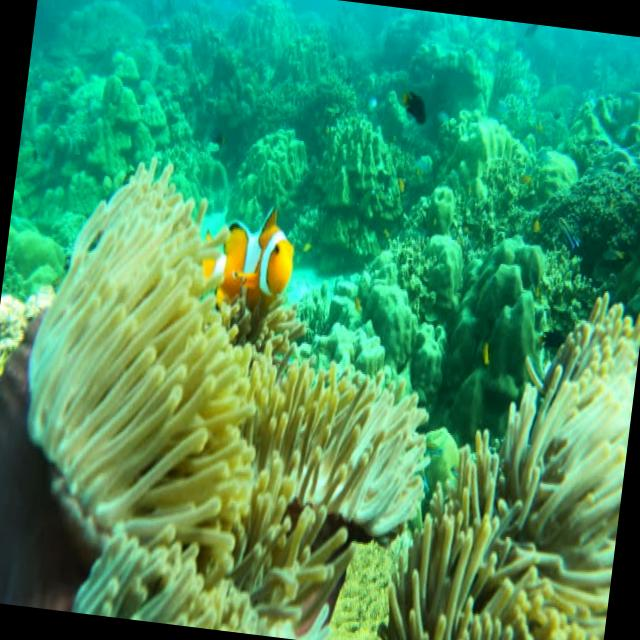ClownFish: (196, 197, 300, 312)
